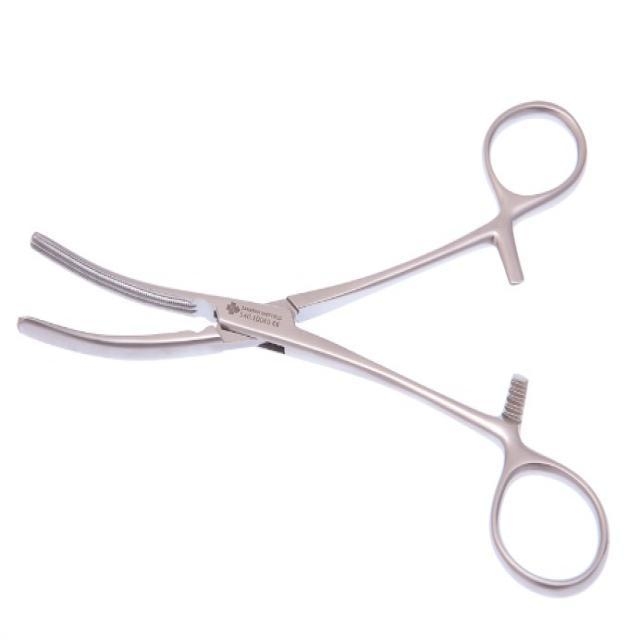Doyel Instestinal Forceps: (14, 99, 610, 592)
